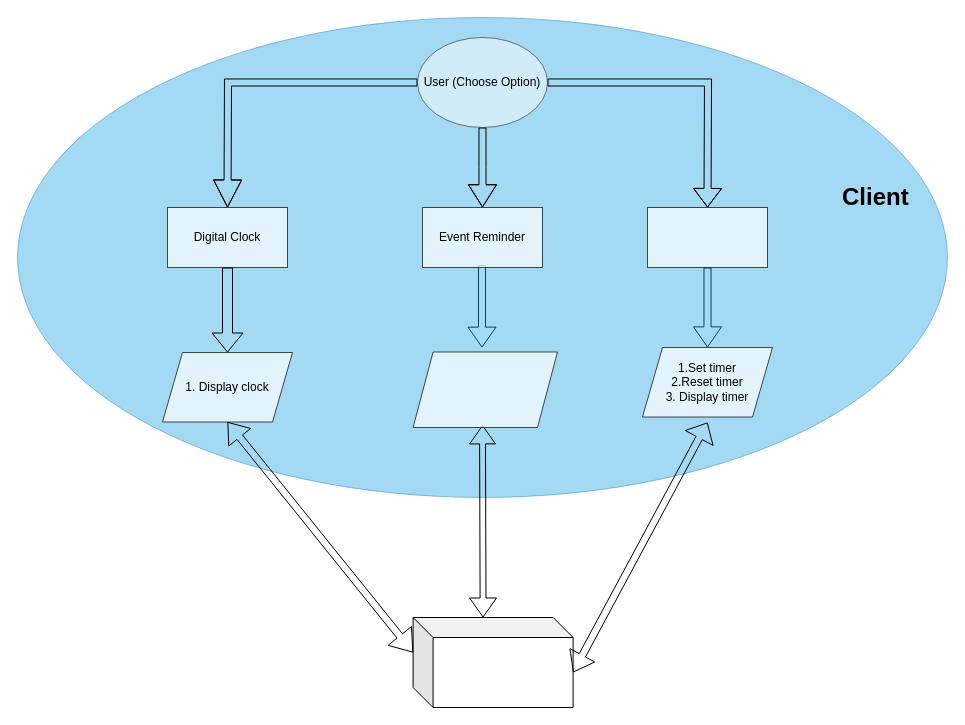
This 965x725 diagram has some shape labels left out. The shapes that lost their labels are listed below. From the top down, each one's box as (x1, y1, x2, y2) in pixels, then its label:
(646, 206, 768, 268): Countdown timer
(412, 351, 558, 428): . 1. Select Date 2.Set Event 3.Update event 4. Remove event 5. Display event
(412, 616, 573, 708): Clock App (Server)
